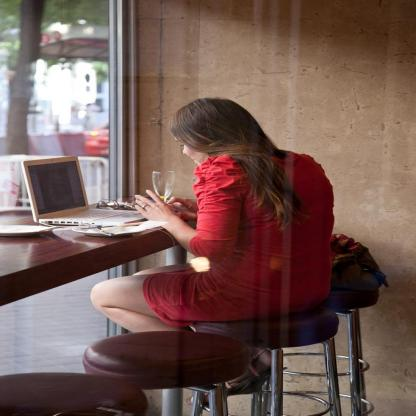board: (20, 156, 148, 226)
